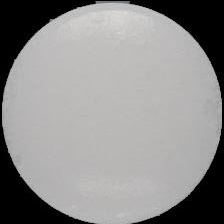68382-040: (0, 0, 224, 224)
